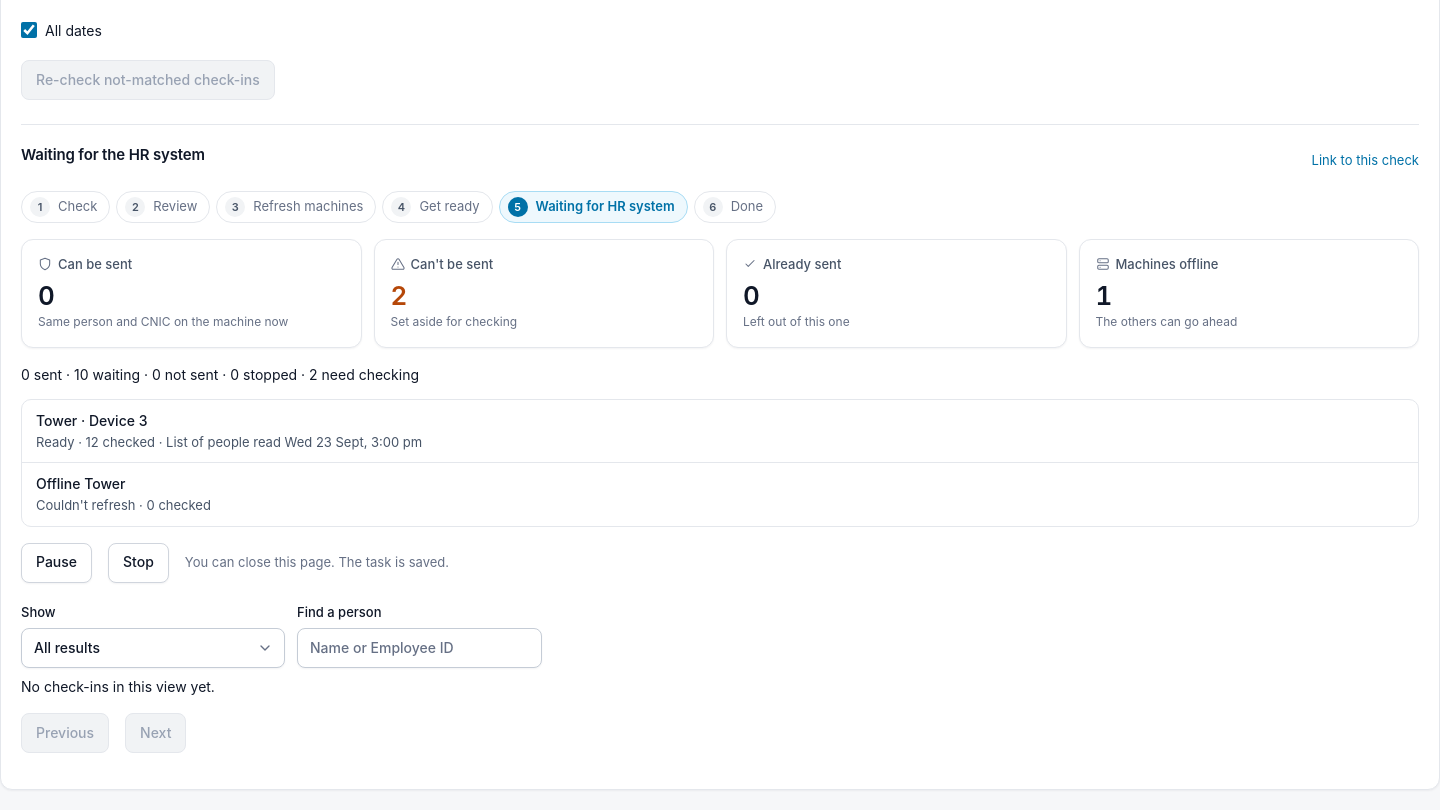
Test: restores a waiting run and explains stop without claiming completion
(page scrolled)
Expected: the heading "Waiting for the HR system" is shown, left=21, top=145, right=205, bottom=165
Click the button "Stop": [138, 563] box left=108, top=543, right=169, bottom=583
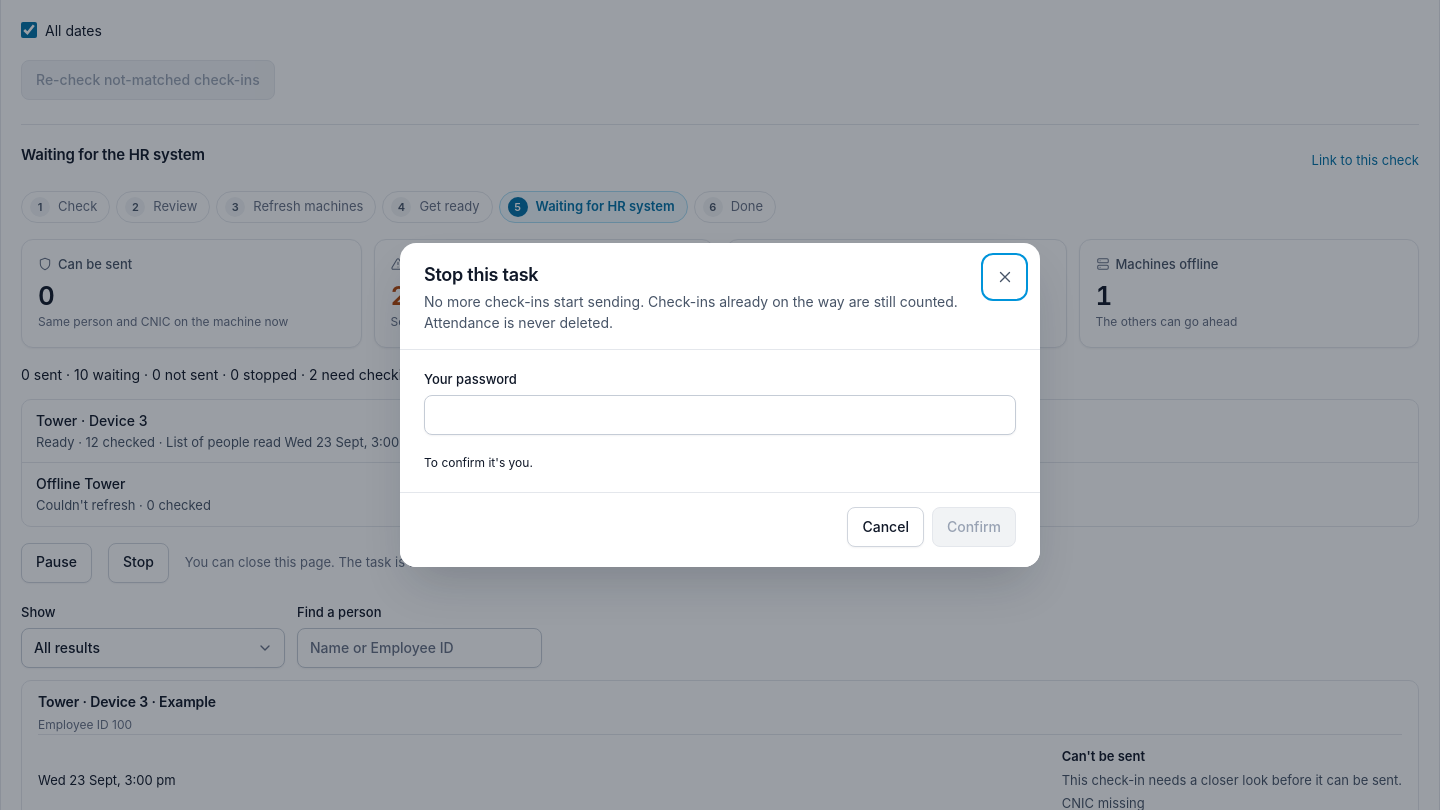
Expected: the text "Check-ins already on the way are still counted" is shown, left=424, top=293, right=958, bottom=331
Expected: the password field labelled "Your password" is shown, left=424, top=395, right=1016, bottom=435
